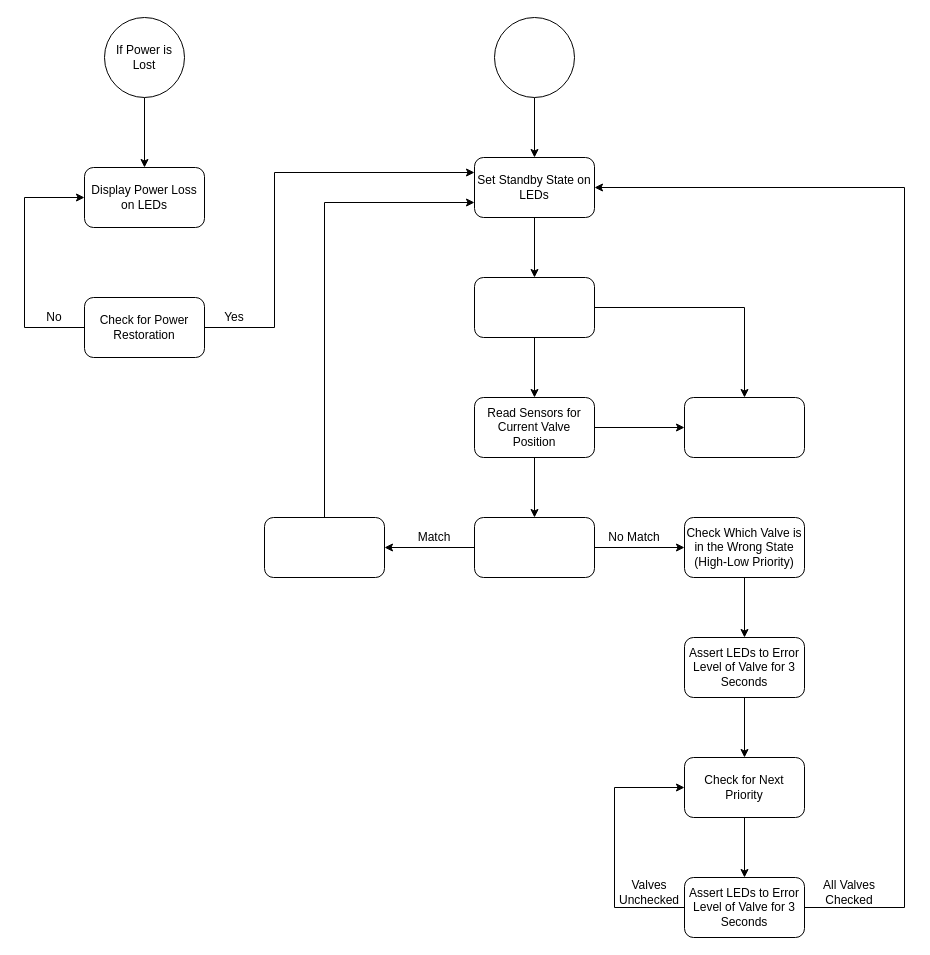
This 930x955 diagram has some shape labels left out. Each missing label, with the centre of its shape:
"Assert 'All Good' State on LEDs" belongs at point 324,547.
"Bootup" belongs at point 534,57.
"Compare Sensor Data to Command from BB-AI" belongs at point 534,547.
"Receive Command from BB-AI" belongs at point 534,307.
"Store Data to SD Card" belongs at point 744,427.
